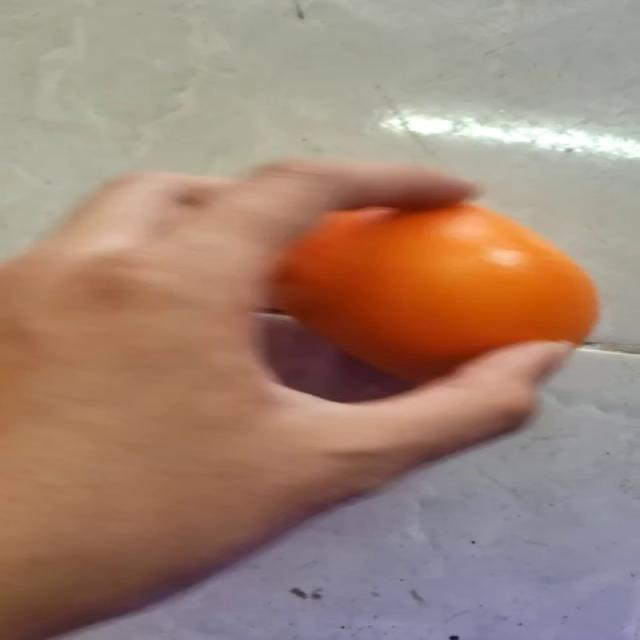Orange: (269, 198, 600, 382)
